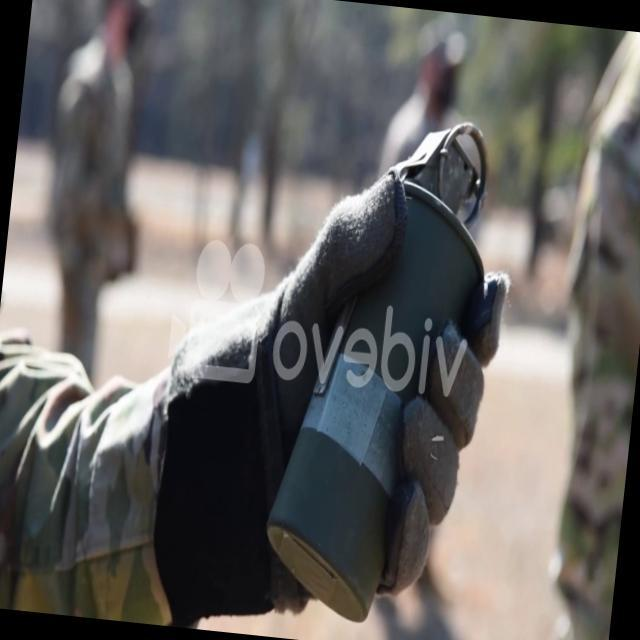grenade: (250, 107, 515, 634)
